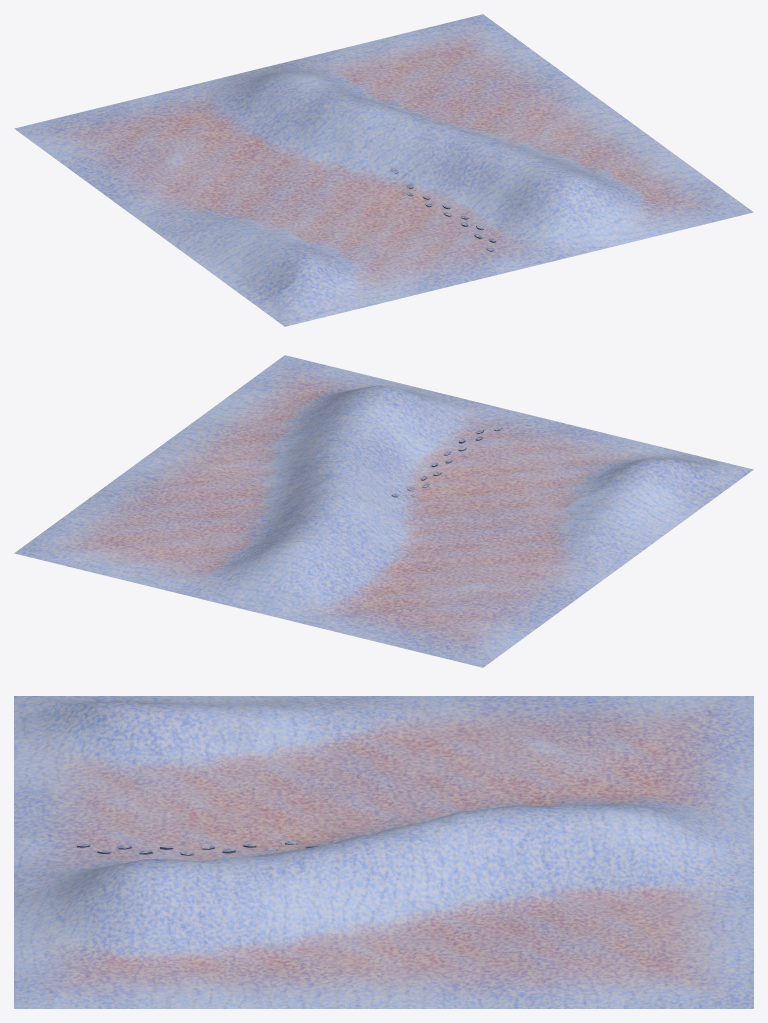
The model's file is sand_floor.fbx.
The picture shows the model from 3 angles, top to bottom: view 1: azimuth 30°, elevation 25°; view 2: azimuth 150°, elevation 25°; view 3: azimuth 270°, elevation 25°; orthographic projection. The views are drawn at different scales.
Visible parts, largest first — view 1: Body; view 2: Body; view 3: Body.
Part boxes in pixels (x1=…): Body: x1=14, y1=14, x2=753, y2=326; Body: x1=14, y1=355, x2=753, y2=667; Body: x1=14, y1=696, x2=753, y2=1008.
Bounding box in the file's own units: 32 × 2.33 × 32.
1 material, 1 textured.
